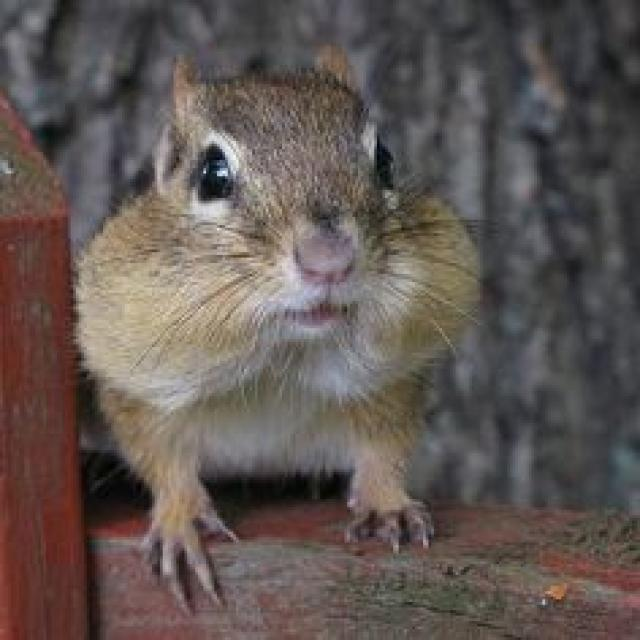Herbivorous: (76, 46, 480, 616)
